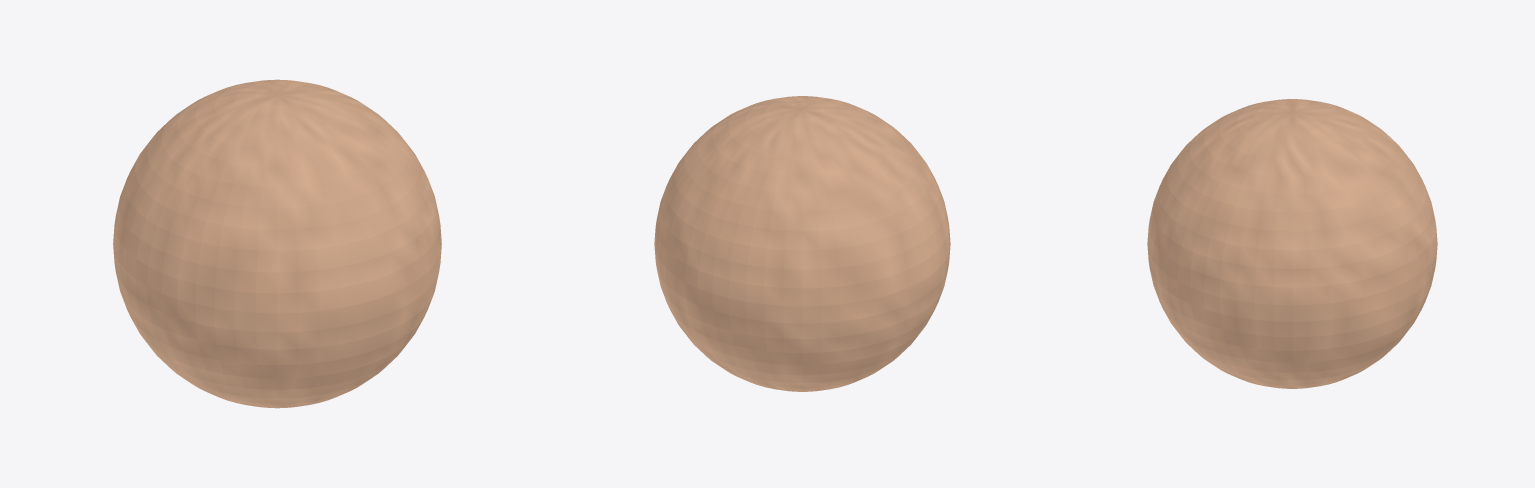
The model's file is star-almach.glb.
The picture shows the model from 3 angles, left to right: view 1: azimuth 30°, elevation 25°; view 2: azimuth 150°, elevation 25°; view 3: azimuth 270°, elevation 25°; orthographic projection. The views are drawn at different scales.
Bounding box in the file's own units: 3.19 × 3.18 × 3.15.
